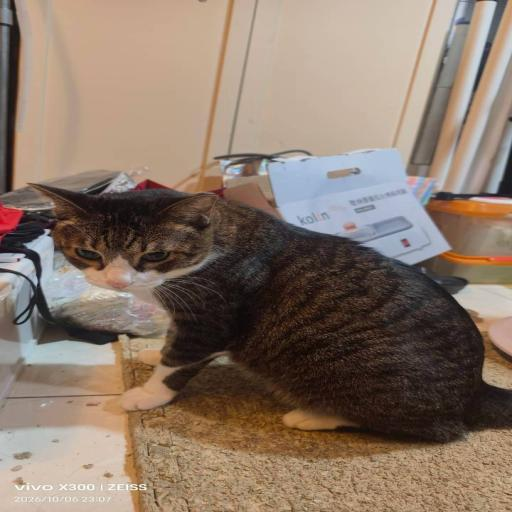cat: (54, 197, 496, 441)
